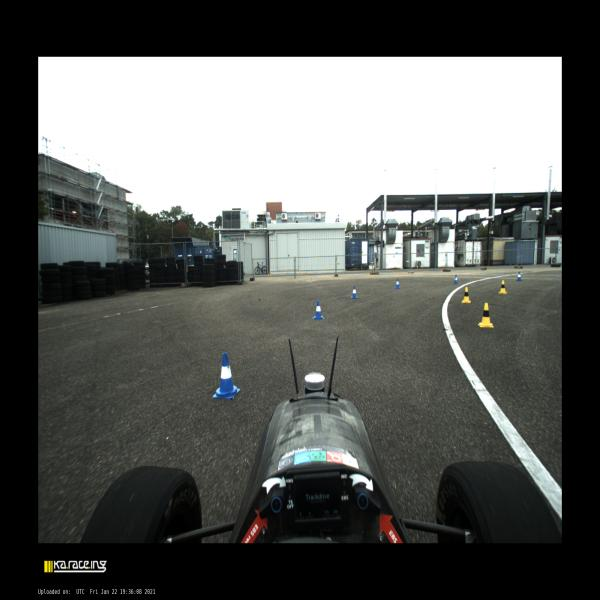blue_cone: (212, 352, 240, 398), (313, 300, 324, 319), (350, 285, 358, 299), (394, 279, 400, 288), (516, 272, 522, 281), (453, 275, 459, 283)
yellow_cone: (478, 303, 494, 327), (462, 287, 471, 303), (499, 280, 507, 294)
